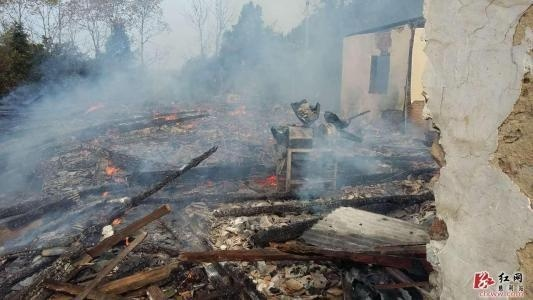fire: (103, 161, 119, 175)
